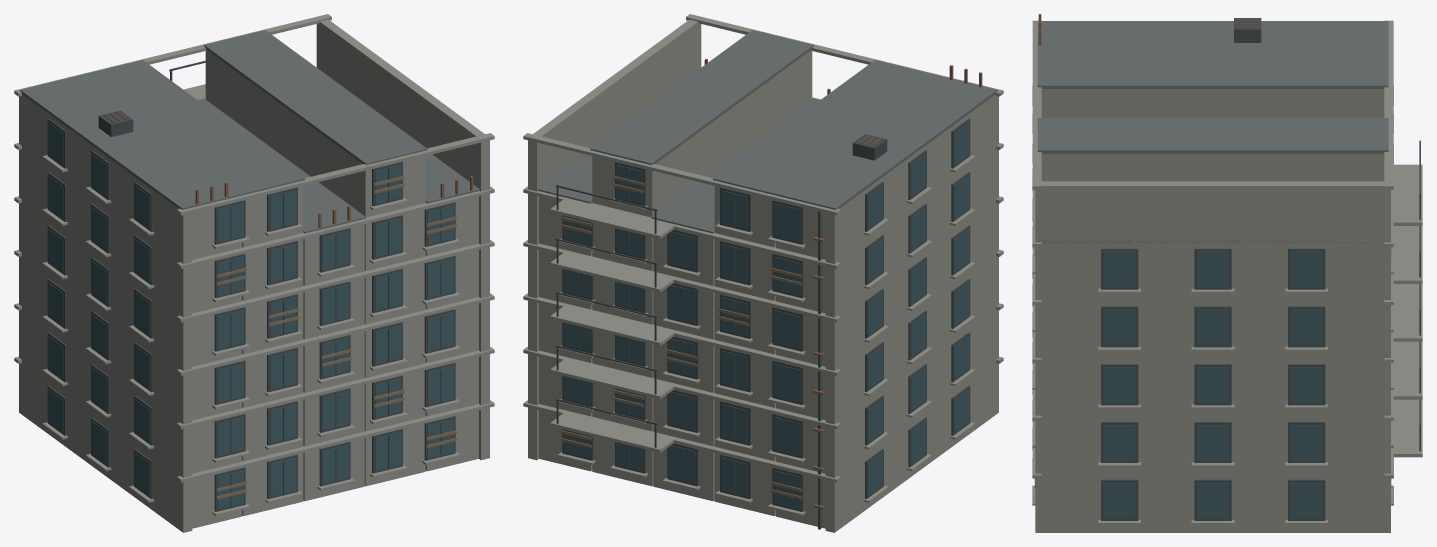
The model's file is Ville_Batiment_06.fbx.
3 views of the same model, side by side, from view 1: azimuth 30°, elevation 25°; view 2: azimuth 150°, elevation 25°; view 3: azimuth 270°, elevation 25° (orthographic). The views are drawn at different scales.
Parts seen in each view (by area): view 1: Ville_Batiment_06_concrete, Ville_Batiment_06_concrete_dark, Ville_Batiment_06_glass, Ville_Batiment_06_iron, Ville_Batiment_06_wood, Ville_Batiment_06_rust; view 2: Ville_Batiment_06_concrete, Ville_Batiment_06_concrete_dark, Ville_Batiment_06_glass, Ville_Batiment_06_iron, Ville_Batiment_06_wood, Ville_Batiment_06_rust; view 3: Ville_Batiment_06_concrete, Ville_Batiment_06_concrete_dark, Ville_Batiment_06_glass, Ville_Batiment_06_iron.
Part boxes in pixels (left/top/right/bottom): Ville_Batiment_06_concrete: left=14, top=14, right=494, bottom=532; Ville_Batiment_06_concrete_dark: left=20, top=30, right=479, bottom=233; Ville_Batiment_06_glass: left=48, top=122, right=453, bottom=509; Ville_Batiment_06_iron: left=47, top=60, right=455, bottom=511; Ville_Batiment_06_wood: left=216, top=176, right=456, bottom=499; Ville_Batiment_06_rust: left=103, top=111, right=473, bottom=227; Ville_Batiment_06_concrete: left=523, top=14, right=1003, bottom=532; Ville_Batiment_06_concrete_dark: left=538, top=30, right=997, bottom=233; Ville_Batiment_06_glass: left=564, top=122, right=969, bottom=509; Ville_Batiment_06_iron: left=555, top=118, right=970, bottom=529; Ville_Batiment_06_wood: left=561, top=176, right=801, bottom=499; Ville_Batiment_06_rust: left=704, top=59, right=982, bottom=509; Ville_Batiment_06_concrete: left=1032, top=20, right=1422, bottom=532; Ville_Batiment_06_concrete_dark: left=1037, top=21, right=1388, bottom=243; Ville_Batiment_06_glass: left=1103, top=251, right=1322, bottom=518; Ville_Batiment_06_iron: left=1101, top=18, right=1420, bottom=520.
Size of the model in its own units: 43.56 by 44.2 by 42.85.
